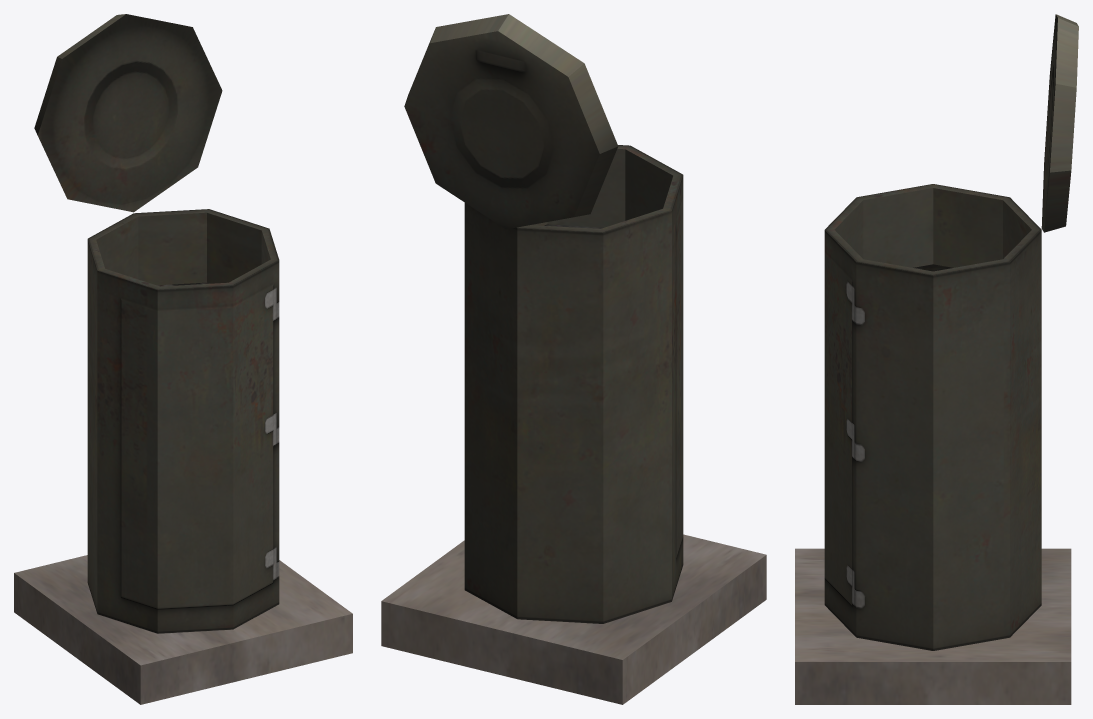
File: muelleimer_offen.fbx
The picture shows the model from 3 angles, left to right: view 1: azimuth 30°, elevation 25°; view 2: azimuth 150°, elevation 25°; view 3: azimuth 270°, elevation 25°; orthographic projection. The views are drawn at different scales.
Visible parts, largest first — view 1: Mesh; view 2: Mesh; view 3: Mesh.
Boxes of the visible parts, x1,y1,x2,y2 form: Mesh: (14,14,352,704); Mesh: (381,14,766,704); Mesh: (795,14,1078,704).
Size of the model in its own units: 62 by 161 by 65.74.
